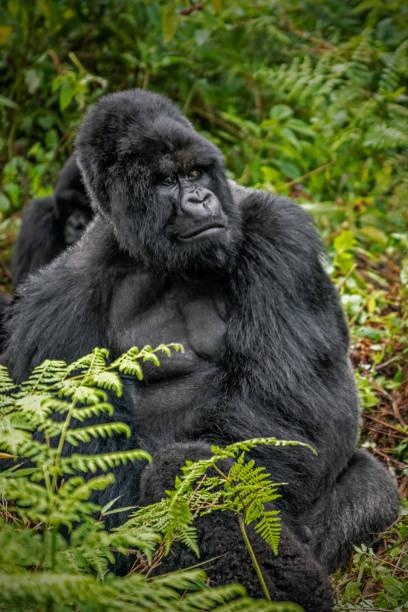goriile_montagne: (20, 92, 408, 580), (5, 149, 90, 253)
